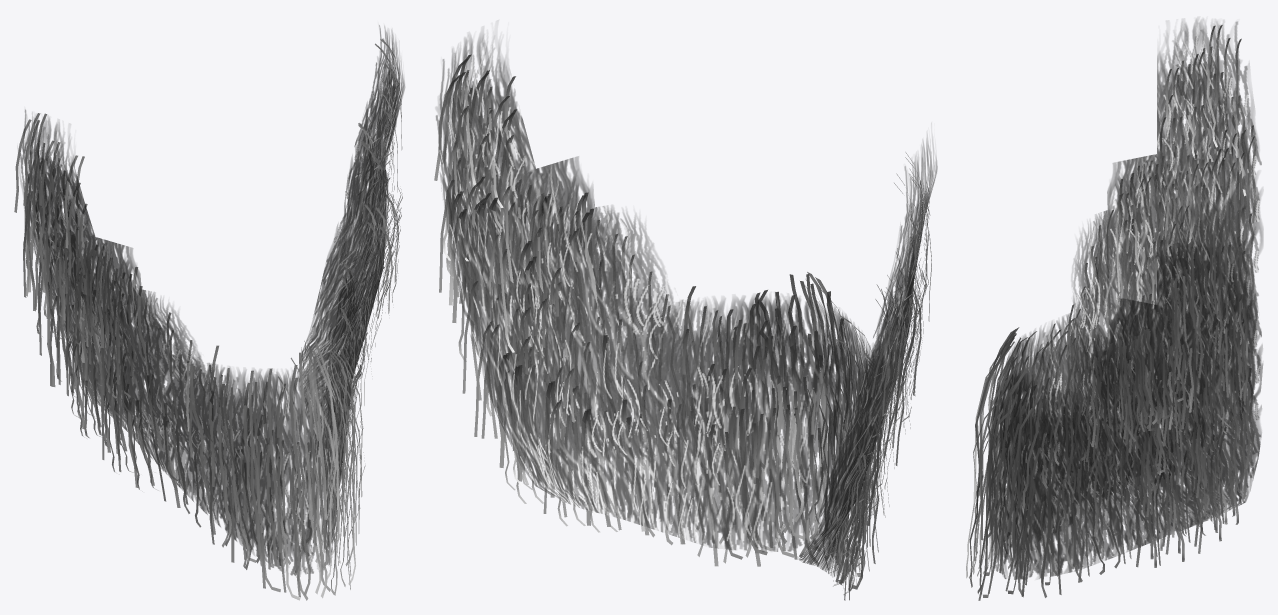
The model's file is facial_beard_long.gltf.
3 renders of one model, left to right at view 1: azimuth 30°, elevation 25°; view 2: azimuth 150°, elevation 25°; view 3: azimuth 270°, elevation 25°, orthographic. The views are drawn at different scales.
Visible parts, largest first — view 1: facial_beard_long; view 2: facial_beard_long; view 3: facial_beard_long.
Part boxes in pixels (x1,y1,x2,y2): facial_beard_long: (14,25,404,600); facial_beard_long: (434,31,937,600); facial_beard_long: (966,19,1263,600).
Bounding box in the file's own units: 0.1426 × 0.1631 × 0.0913.
Materials: 1 (1 with a texture image).
